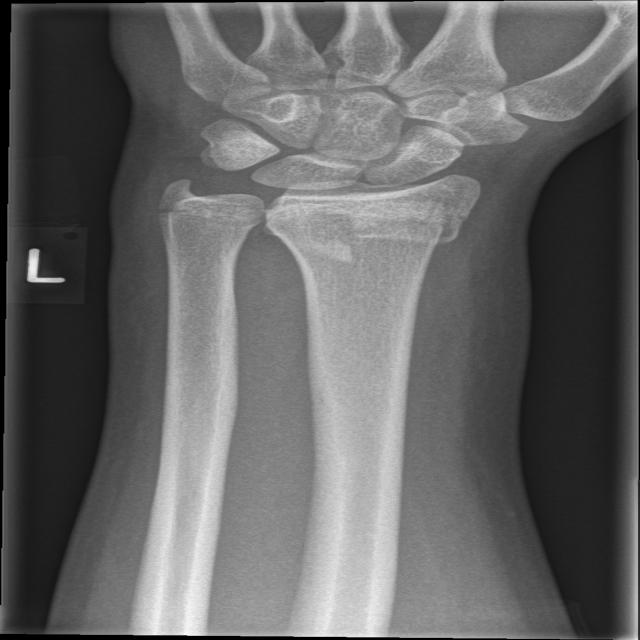radius fracture: (262, 202, 484, 336)
